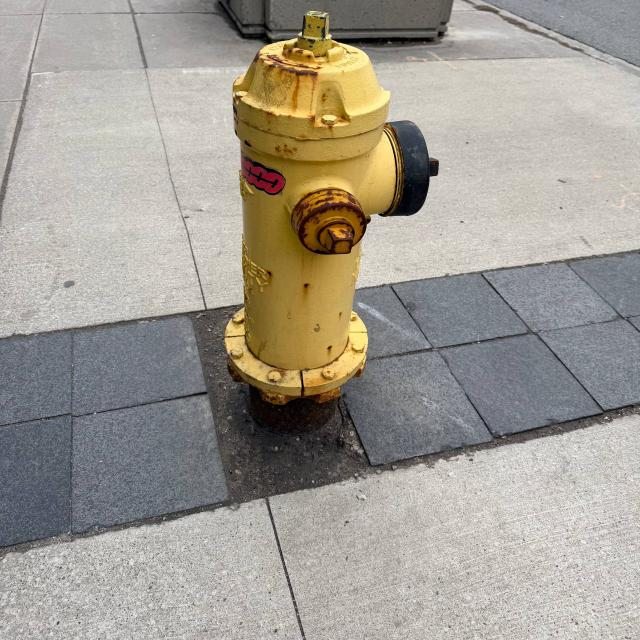Fire hydrant: (223, 10, 441, 406)
